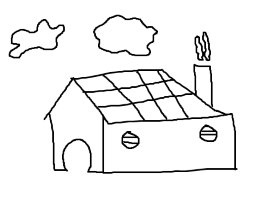closed_window: (120, 130, 140, 150), (198, 123, 218, 143)
clouds: (91, 13, 159, 57), (8, 18, 66, 59)
door: (58, 137, 95, 176)
roof: (44, 68, 237, 123)
smoking_chimney: (190, 30, 219, 109)
wall: (99, 113, 243, 174)
